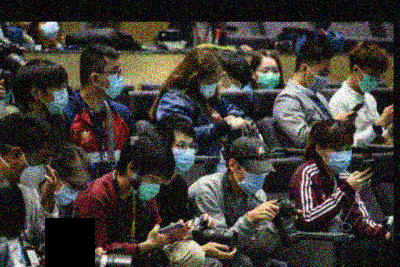with_mask: (19, 149, 50, 188), (235, 165, 271, 195), (170, 137, 197, 175), (40, 80, 69, 115), (53, 176, 86, 206), (322, 139, 351, 173), (98, 61, 123, 99), (134, 169, 163, 201), (253, 62, 281, 89), (304, 64, 330, 90), (197, 73, 222, 100), (356, 70, 384, 93), (218, 76, 243, 94)
